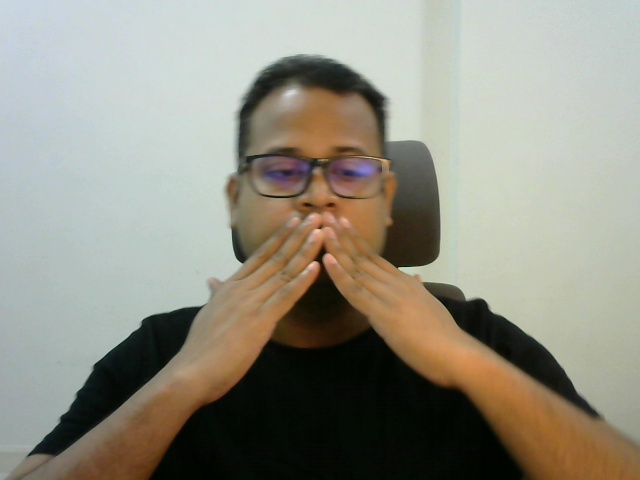ThankYou: (192, 207, 463, 406)
